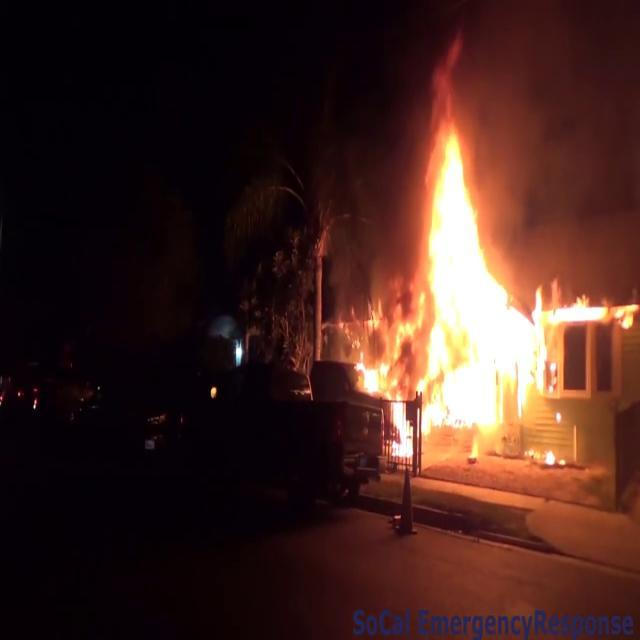Fire: (360, 105, 564, 456), (524, 277, 610, 330)
